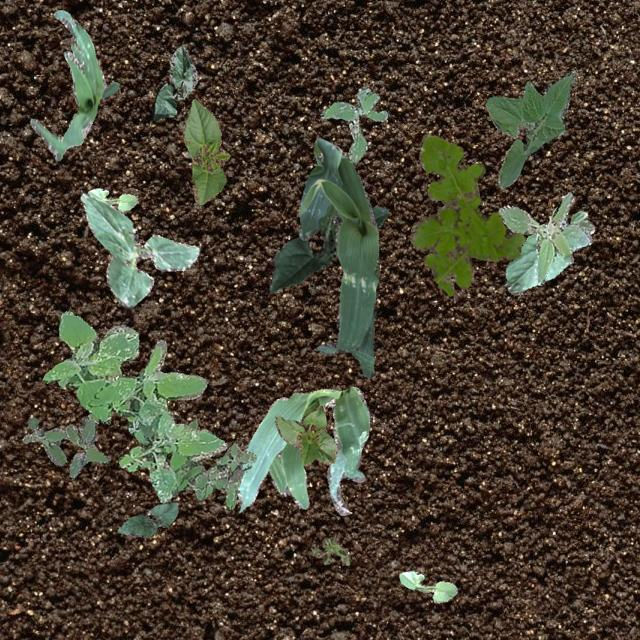crop: (297, 136, 378, 376), (235, 386, 368, 514), (80, 192, 198, 308), (28, 9, 118, 160), (484, 70, 574, 188), (269, 206, 387, 292), (504, 210, 594, 294), (182, 98, 228, 204), (274, 404, 336, 464), (150, 44, 198, 120), (116, 499, 178, 536), (398, 570, 456, 602), (86, 187, 136, 210)
weed: (42, 310, 226, 502), (410, 133, 524, 294), (126, 414, 256, 508), (496, 192, 590, 284), (21, 412, 110, 477), (319, 86, 386, 162), (310, 534, 348, 564)
